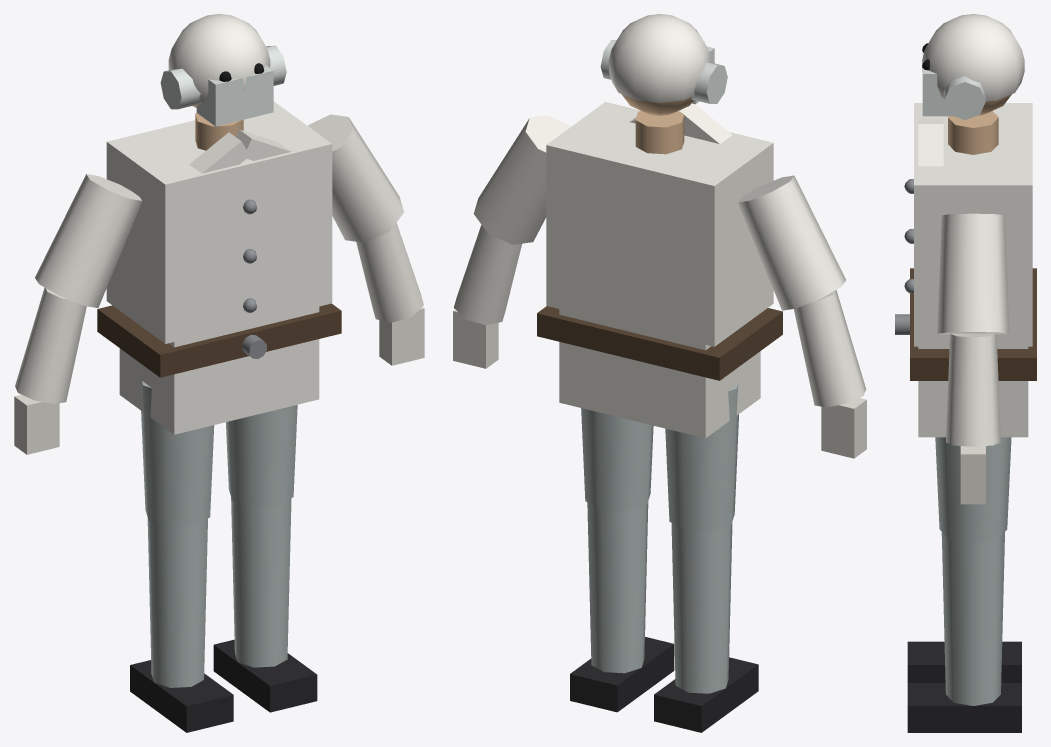
The model's file is sanitar.glb.
The picture shows the model from 3 angles, left to right: view 1: azimuth 30°, elevation 25°; view 2: azimuth 150°, elevation 25°; view 3: azimuth 270°, elevation 25°; orthographic projection.
Parts seen in each view (by area): view 1: coat_chest, coat_skirt, shin_R, shin_L, sleeve_L, belt, thigh_L, sleeve_R, thigh_R, forearm_L, surgical_cap, forearm_R (+9 smaller); view 2: coat_chest, coat_skirt, shin_L, shin_R, sleeve_L, belt, thigh_L, surgical_cap, sleeve_R, thigh_R, forearm_L, forearm_R (+8 smaller); view 3: coat_chest, shin_R, sleeve_R, surgical_cap, forearm_R, thigh_R, shoe_R, coat_skirt, belt, shoe_L, neck, hand_R (+5 smaller).
Boxes of the visible parts, <box> form: coat_chest: <box>106,101,332,343</box>; coat_skirt: <box>119,306,319,434</box>; shin_R: <box>231,497,291,667</box>; shin_L: <box>147,518,207,687</box>; sleeve_L: <box>35,174,142,307</box>; belt: <box>97,303,341,377</box>; thigh_L: <box>141,381,214,527</box>; sleeve_R: <box>308,114,403,242</box>; thigh_R: <box>226,404,297,506</box>; forearm_L: <box>15,287,86,403</box>; surgical_cap: <box>168,14,270,100</box>; forearm_R: <box>356,223,423,322</box>; coat_chest: <box>546,102,773,346</box>; coat_skirt: <box>559,309,760,438</box>; shin_L: <box>671,522,732,693</box>; shin_R: <box>587,501,648,673</box>; sleeve_L: <box>738,175,845,310</box>; belt: <box>537,306,782,380</box>; thigh_L: <box>665,384,738,531</box>; surgical_cap: <box>608,14,711,102</box>; sleeve_R: <box>473,115,570,244</box>; thigh_R: <box>581,408,653,511</box>; forearm_L: <box>794,290,866,407</box>; forearm_R: <box>453,225,521,325</box>; coat_chest: <box>914,103,1032,346</box>; shin_R: <box>941,532,1004,705</box>; sleeve_R: <box>937,213,1009,334</box>; surgical_cap: <box>922,14,1024,101</box>; forearm_R: <box>946,333,1000,446</box>; thigh_R: <box>935,437,1011,543</box>; shoe_R: <box>907,683,1021,732</box>; coat_skirt: <box>918,346,1028,437</box>; belt: <box>910,268,1036,380</box>; shoe_L: <box>907,641,1021,682</box>; neck: <box>948,111,998,154</box>; hand_R: <box>960,446,985,504</box>.
Bounding box in the file's own units: 1.11 × 1.78 × 0.335.
